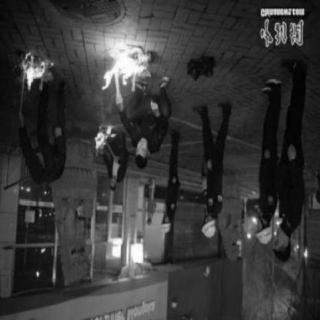Fire: (90, 120, 114, 156)
other: (258, 16, 306, 52), (94, 299, 152, 319)
